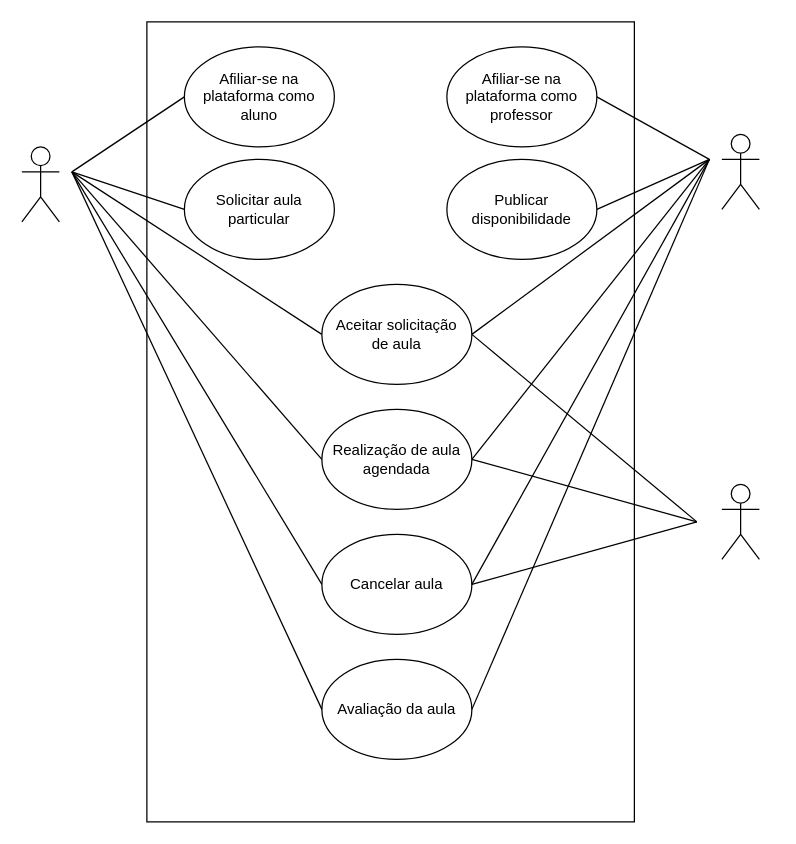
This 796x844 diagram has some shape labels left out. Here are the shapes that lost their labels. From the top down, the centre of each, then its label:
pixel 40 184: Aluno
pixel 740 171: Professor
pixel 740 521: Instituição financeira
